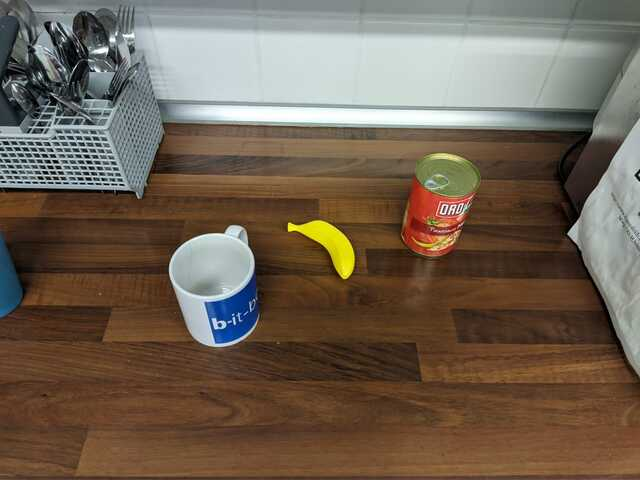005_tomato_soup_can: (401, 150, 483, 262)
011_banana: (279, 217, 365, 282)
025_mug: (160, 221, 270, 358)
